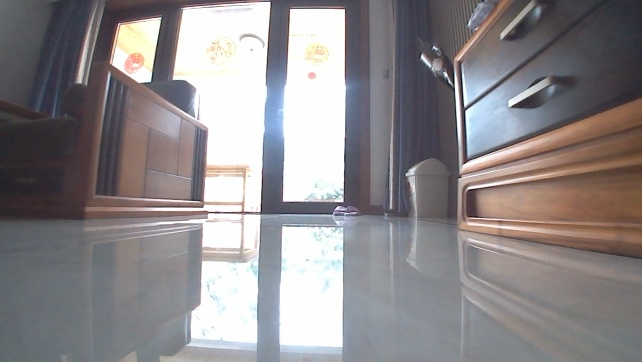TV_stand1: (448, 0, 641, 261)
sofa: (0, 55, 211, 221)
